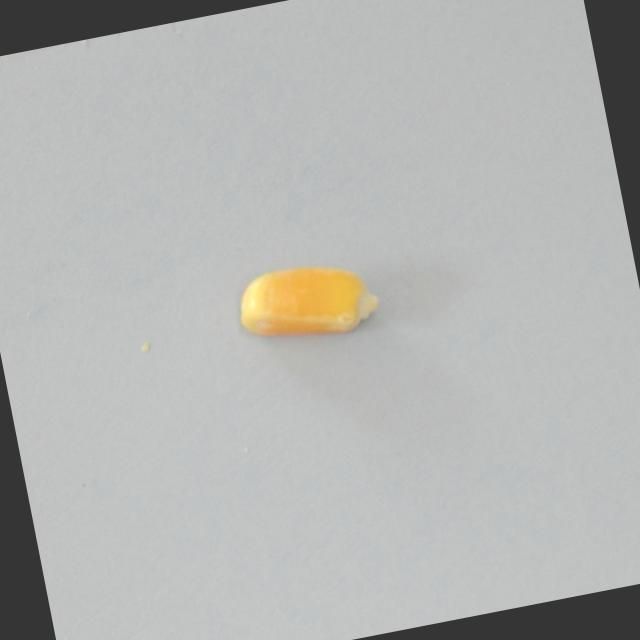entero: (232, 252, 387, 352)
